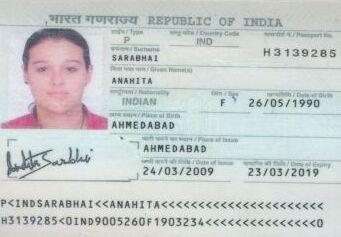DOB: (248, 95, 324, 111)
Surname: (109, 49, 163, 66)
country_code: (187, 33, 219, 49)
date_of_expiry: (246, 164, 323, 183)
date_of_issue: (141, 161, 216, 182)
details: (0, 188, 336, 237)
name: (103, 70, 213, 87)
nationality: (113, 92, 170, 108)
passport_no: (256, 40, 338, 60)
photo: (10, 26, 102, 130)
place_of_birth: (108, 115, 227, 132)
place_of_issue: (141, 140, 214, 155)
sex: (210, 95, 244, 109)
sign: (4, 144, 108, 182)
type: (113, 33, 142, 47)
